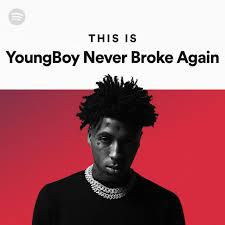quandale-dingle: (91, 92, 145, 179)
